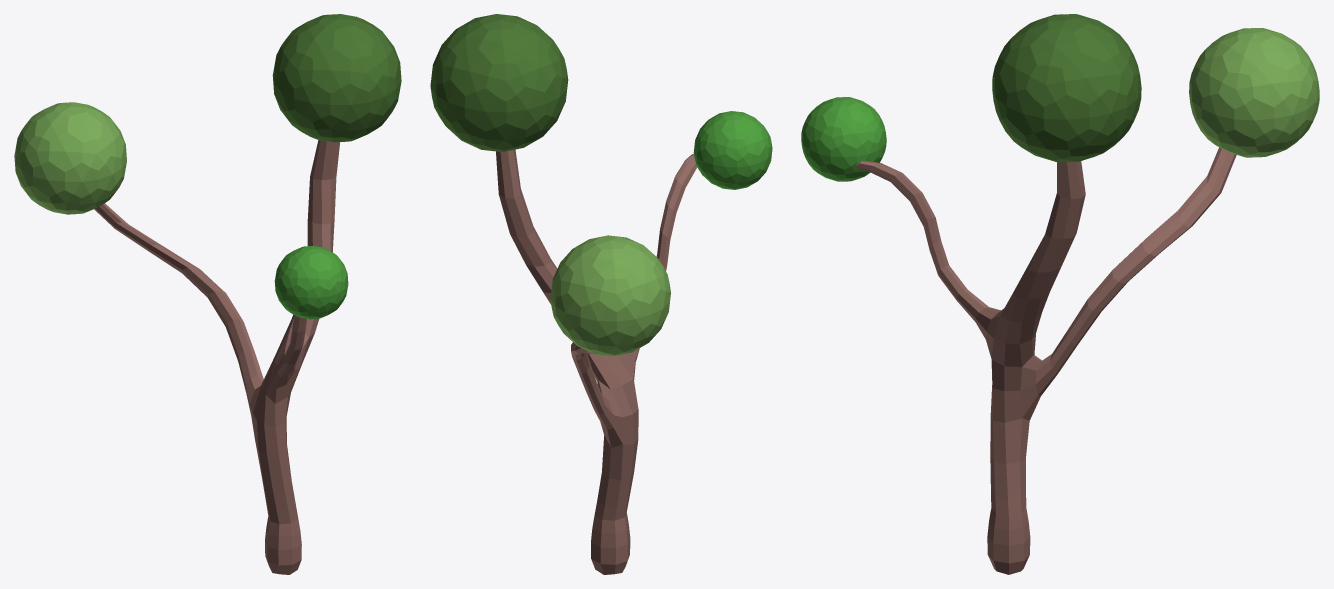
Rendered from tree7.fbx.
3 renders of one model, left to right at view 1: azimuth 30°, elevation 25°; view 2: azimuth 150°, elevation 25°; view 3: azimuth 270°, elevation 25°, orthographic. The views are drawn at different scales.
Parts seen in each view (by area): view 1: Tree7; view 2: Tree7; view 3: Tree7.
Boxes of the visible parts, x1=… form: Tree7: x1=14, y1=14, x2=401, y2=574; Tree7: x1=430, y1=14, x2=772, y2=574; Tree7: x1=801, y1=14, x2=1319, y2=574.
Bounding box in the file's own units: 391 × 666 × 523.
